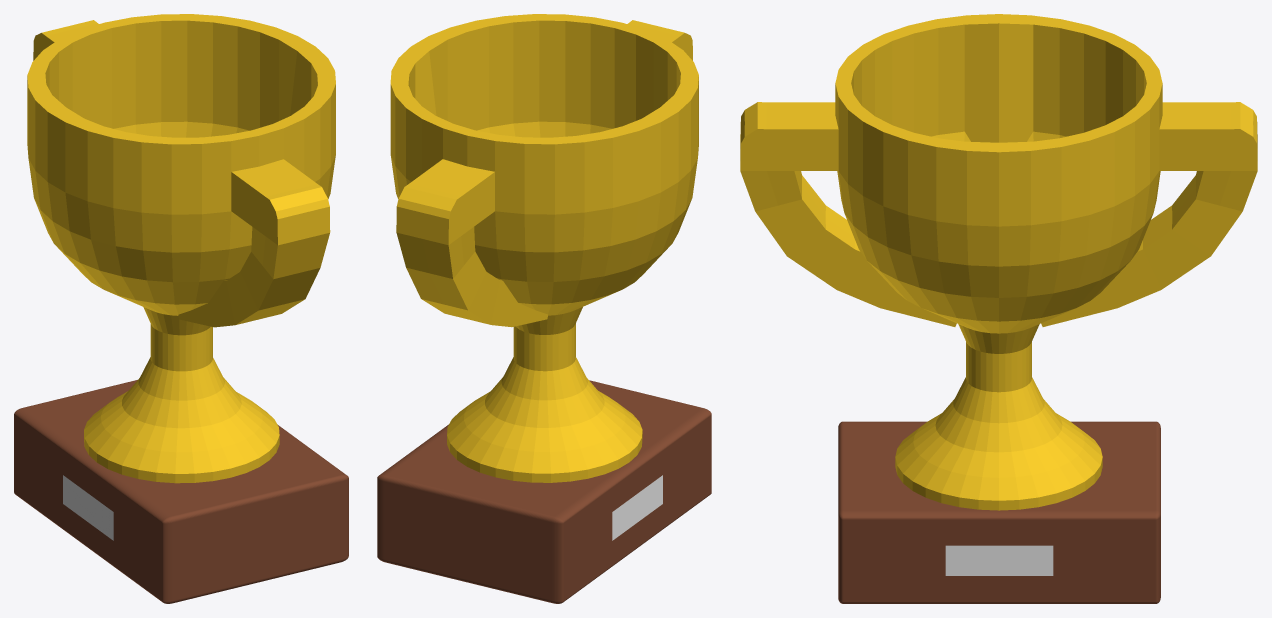
File: Low_Poly_Cup.fbx
3 views of the same model, side by side, from view 1: azimuth 30°, elevation 25°; view 2: azimuth 150°, elevation 25°; view 3: azimuth 270°, elevation 25° (orthographic). The views are drawn at different scales.
Visible parts, largest first — view 1: Circle, Cube; view 2: Circle, Cube; view 3: Circle, Cube.
Part boxes in pixels (x1,y1,x2,y2): Circle: (27,14,335,483); Cube: (14,380,348,603); Circle: (390,14,698,482); Cube: (377,380,711,603); Circle: (740,14,1257,510); Cube: (838,421,1160,603).
Bounding box in the file's own units: 74.45 × 119 × 118.
